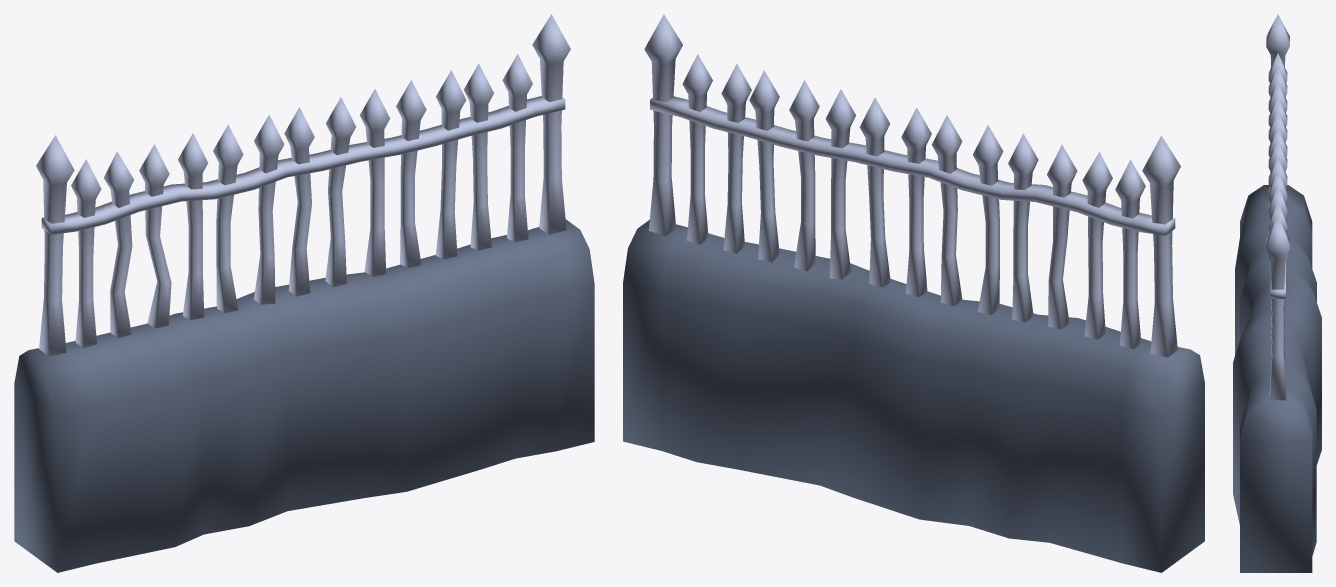
The model's file is fence_spike.fbx.
3 views of the same model, side by side, from view 1: azimuth 30°, elevation 25°; view 2: azimuth 150°, elevation 25°; view 3: azimuth 270°, elevation 25° (orthographic). The views are drawn at different scales.
Parts seen in each view (by area): view 1: wall_2.003; view 2: wall_2.003; view 3: wall_2.003.
Part boxes in pixels (bbox=[...]): wall_2.003: bbox=[14, 14, 594, 572]; wall_2.003: bbox=[623, 14, 1204, 572]; wall_2.003: bbox=[1233, 14, 1321, 572].
Size of the model in its own units: 400 by 296 by 68.51.
